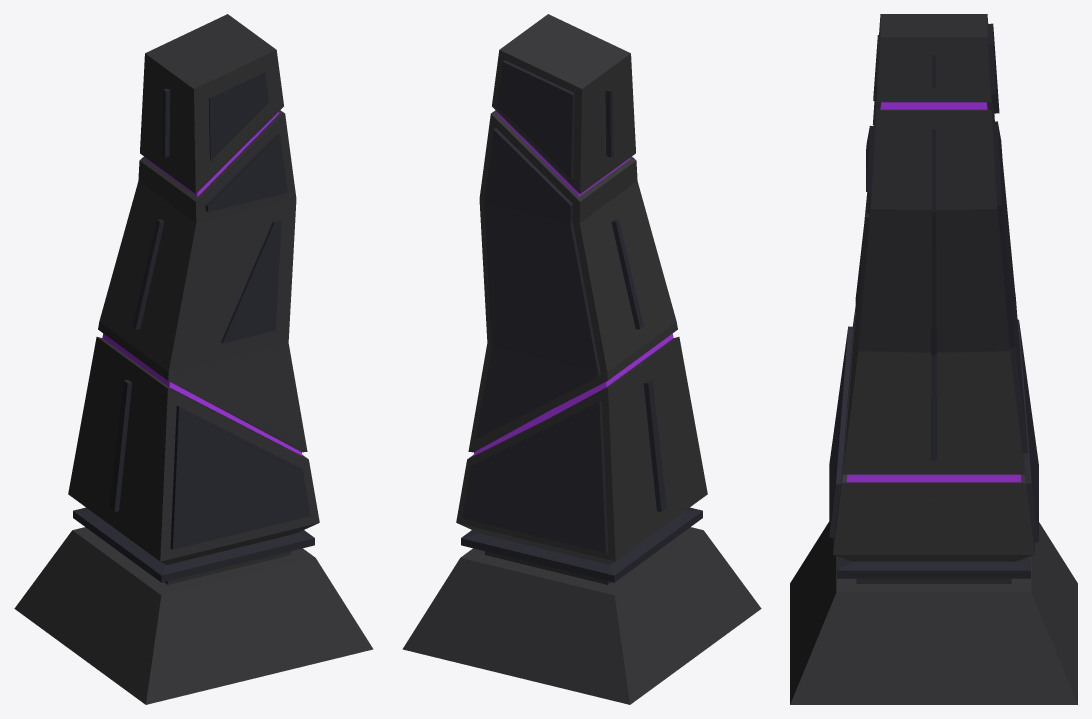
Rendered from NC_Sci-fi03.fbx.
The picture shows the model from 3 angles, left to right: view 1: azimuth 30°, elevation 25°; view 2: azimuth 150°, elevation 25°; view 3: azimuth 270°, elevation 25°; orthographic projection. The views are drawn at different scales.
Visible parts, largest first — view 1: NC_Sci_fi03; view 2: NC_Sci_fi03; view 3: NC_Sci_fi03.
Part boxes in pixels (x1,y1,x2,y2): NC_Sci_fi03: (14,14,373,704); NC_Sci_fi03: (402,14,761,704); NC_Sci_fi03: (790,14,1077,704).
Size of the model in its own units: 110 by 268 by 110.
1 material, 1 textured.
